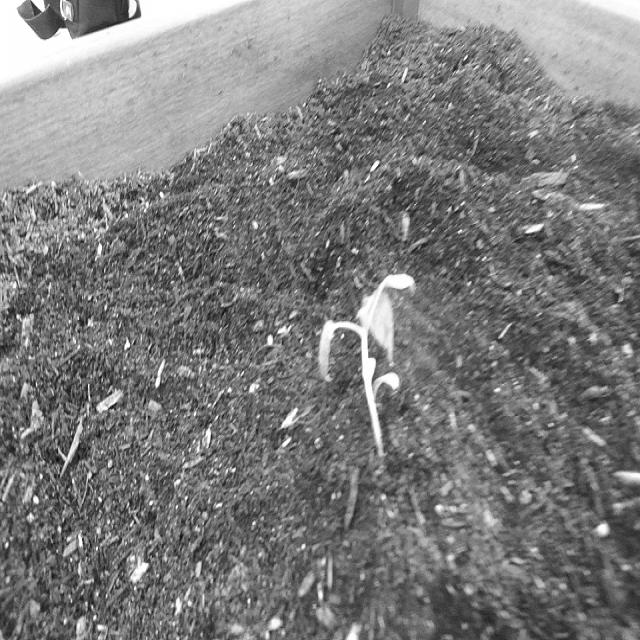Healthy: (305, 242, 428, 489)
